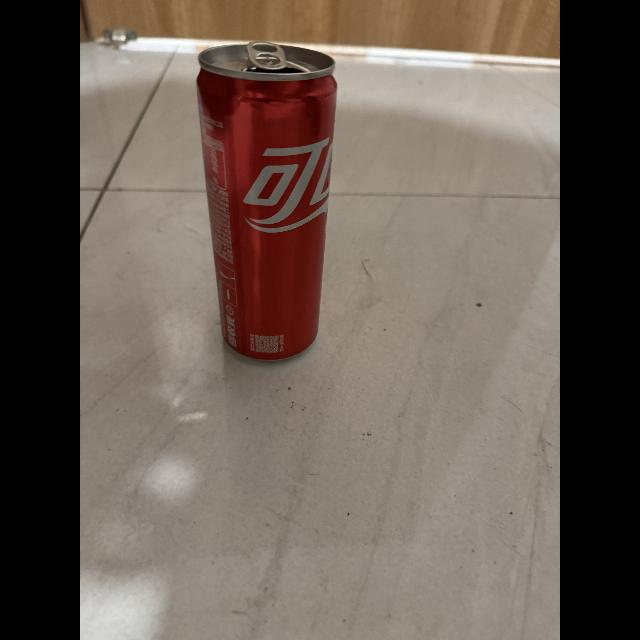Cola: (180, 30, 354, 376)
